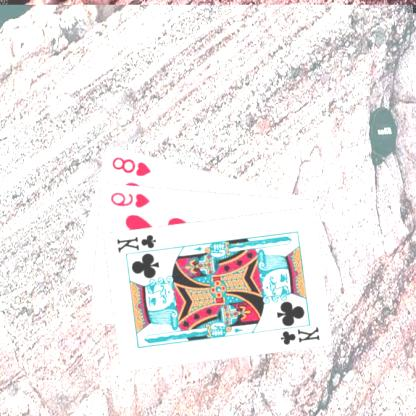8H: (110, 153, 154, 178)
9H: (109, 188, 153, 209)
KC: (116, 231, 165, 257), (273, 320, 322, 346)
